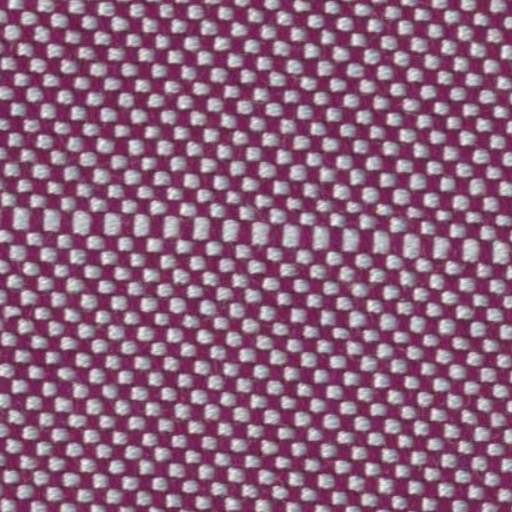TuoSha: (8, 183, 502, 308)
